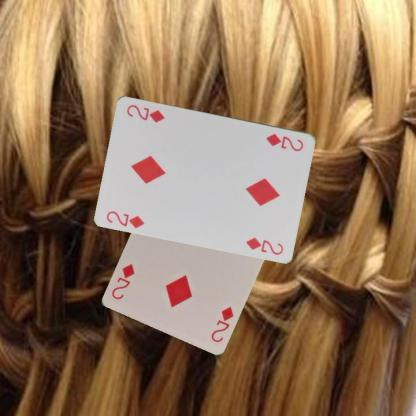2d: (208, 303, 235, 344), (264, 130, 305, 152), (104, 208, 146, 229)
